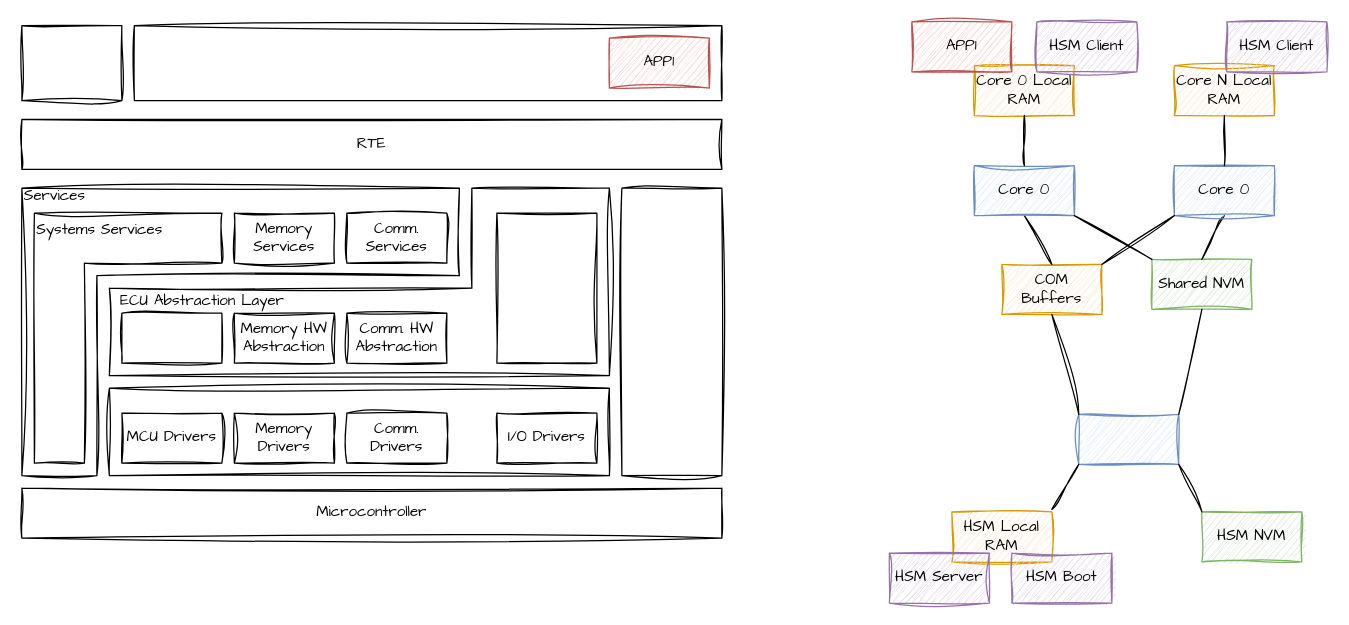
Image size: 1349x625. Some labels were removed from this diagram. The box of each missing label's shape, as (x1, y1, x2, y2) in pixels:
Application Layer: (133, 24, 722, 101)
Complex Drivers: (621, 187, 722, 476)
HSM Core: (1078, 413, 1179, 464)
I/O HW Abstraction: (496, 212, 597, 363)
Libs: (21, 24, 122, 101)
MCAL: (108, 387, 609, 476)
Onboard Device Abstr.: (121, 312, 222, 363)
